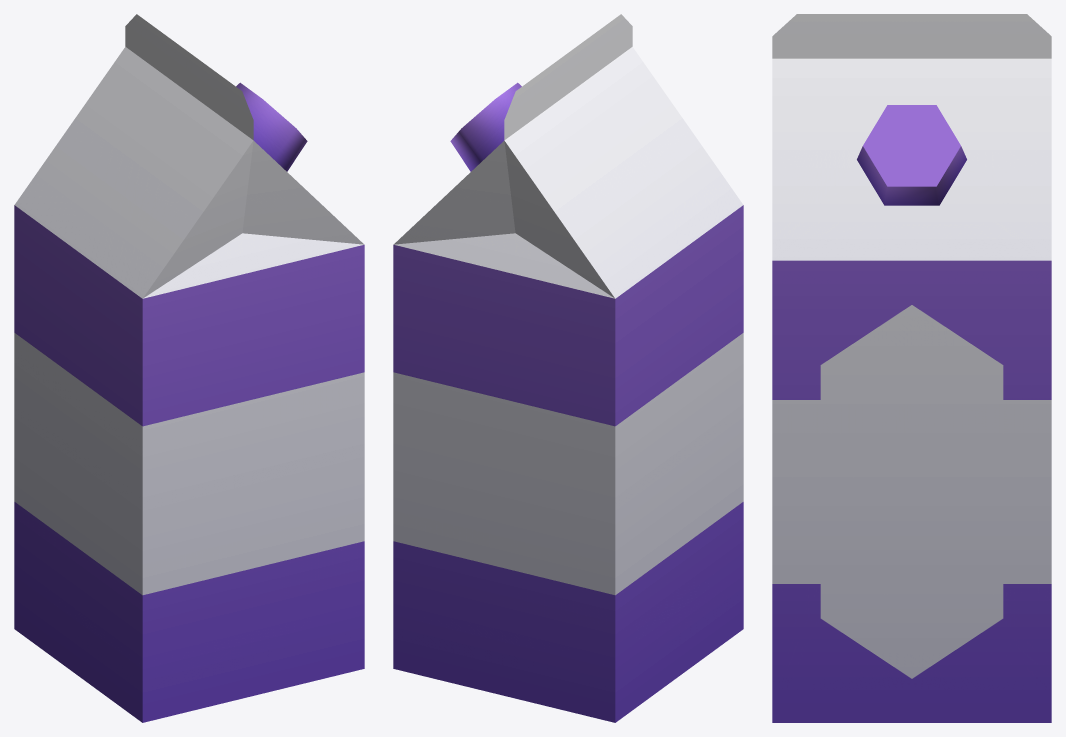
Rendered from food-carton.glb.
3 views of the same model, side by side, from view 1: azimuth 30°, elevation 25°; view 2: azimuth 150°, elevation 25°; view 3: azimuth 270°, elevation 25° (orthographic). The views are drawn at different scales.
Visible parts, largest first — view 1: carton; view 2: carton; view 3: carton.
Part boxes in pixels (box(x1,y1,x2,y2)): carton: box(14, 14, 364, 722); carton: box(393, 14, 743, 722); carton: box(772, 14, 1051, 722).
Bounding box in the file's own units: 0.23 × 0.5905 × 0.23.
1 material, 1 textured.
